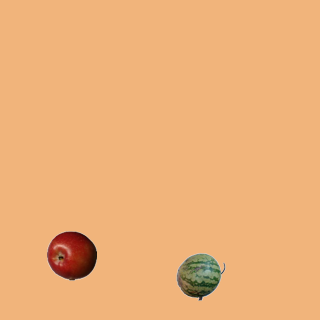Apple Braeburn: (46, 230, 96, 280)
Watermelon: (175, 251, 225, 301)
